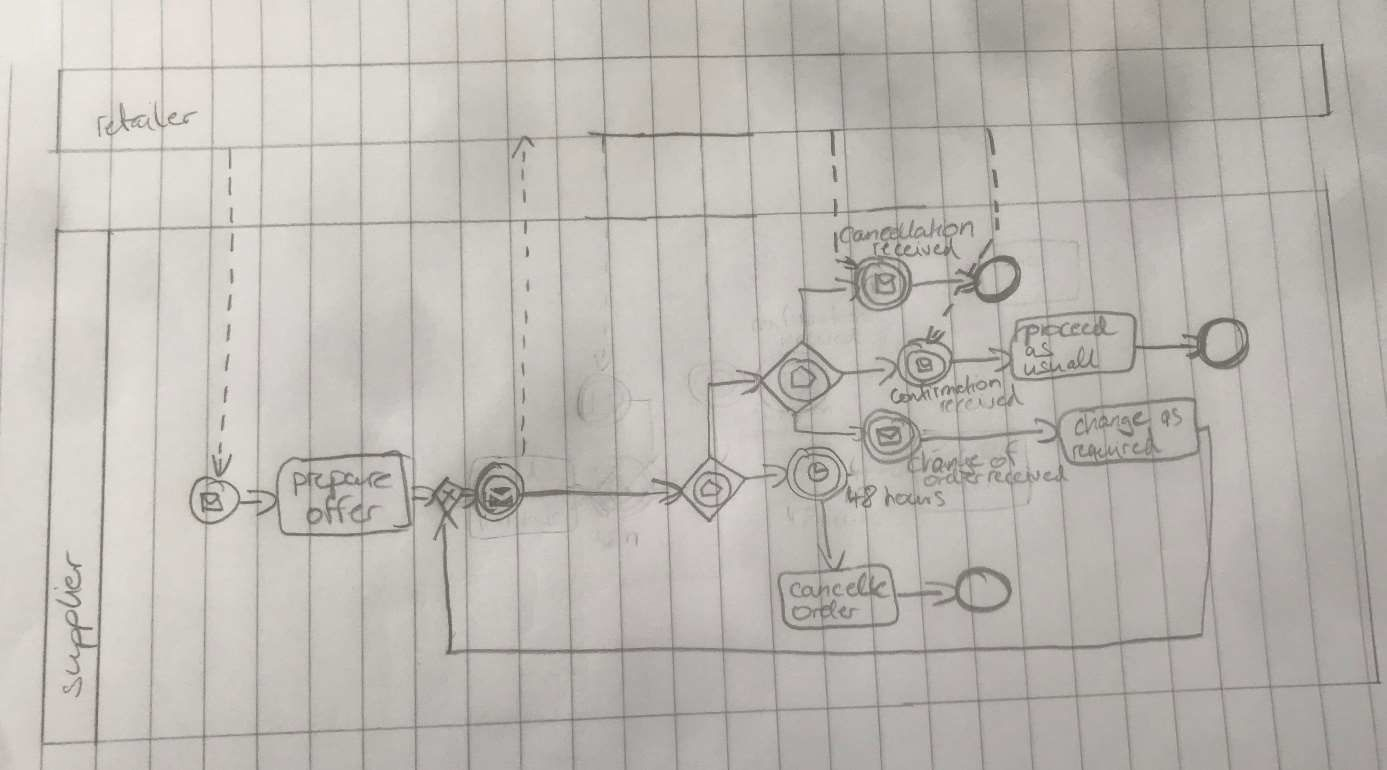48: (848, 484, 877, 510)
Confirmation: (888, 371, 1008, 409)
Order: (791, 600, 866, 622)
as: (1022, 340, 1057, 360), (1158, 406, 1184, 429)
cancellation: (840, 216, 974, 248)
cancelled: (789, 573, 892, 602)
change: (1070, 407, 1156, 439), (906, 445, 989, 477)
hours: (881, 485, 948, 510)
of: (988, 441, 1021, 471)
offer: (306, 491, 383, 527)
order: (925, 466, 981, 492)
prepare: (290, 467, 395, 499)
proceed: (1012, 315, 1120, 345)
received: (935, 387, 1024, 416), (984, 463, 1073, 488), (869, 239, 960, 260)
required: (1065, 430, 1163, 464)
retailer: (89, 94, 200, 142)
supplier: (54, 552, 102, 694)
usual: (1025, 345, 1100, 378)
